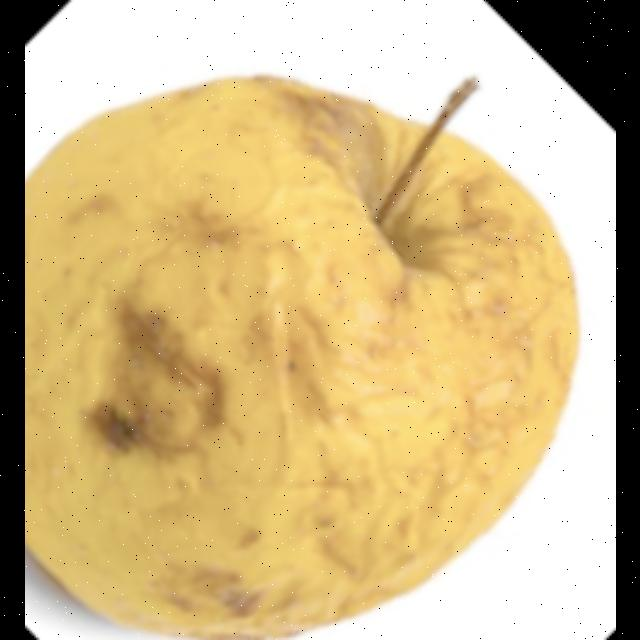Apel Tidak Segar: (24, 68, 584, 640)
